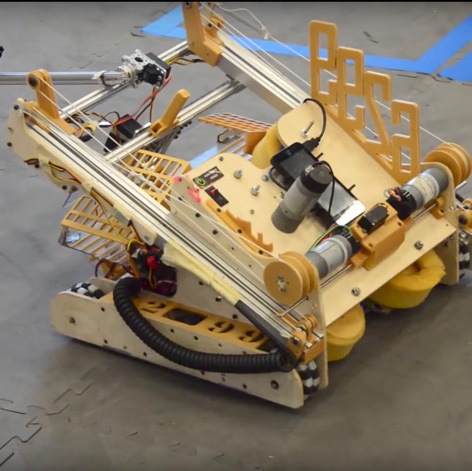robot: (0, 3, 472, 412)
